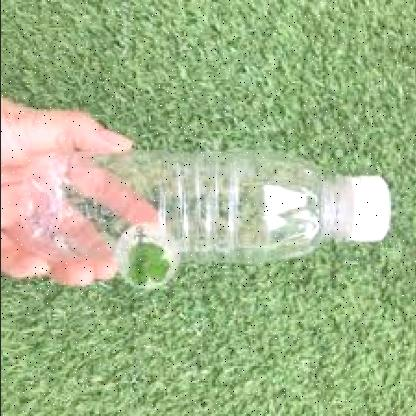Plastic Bottle: (81, 148, 391, 268)
